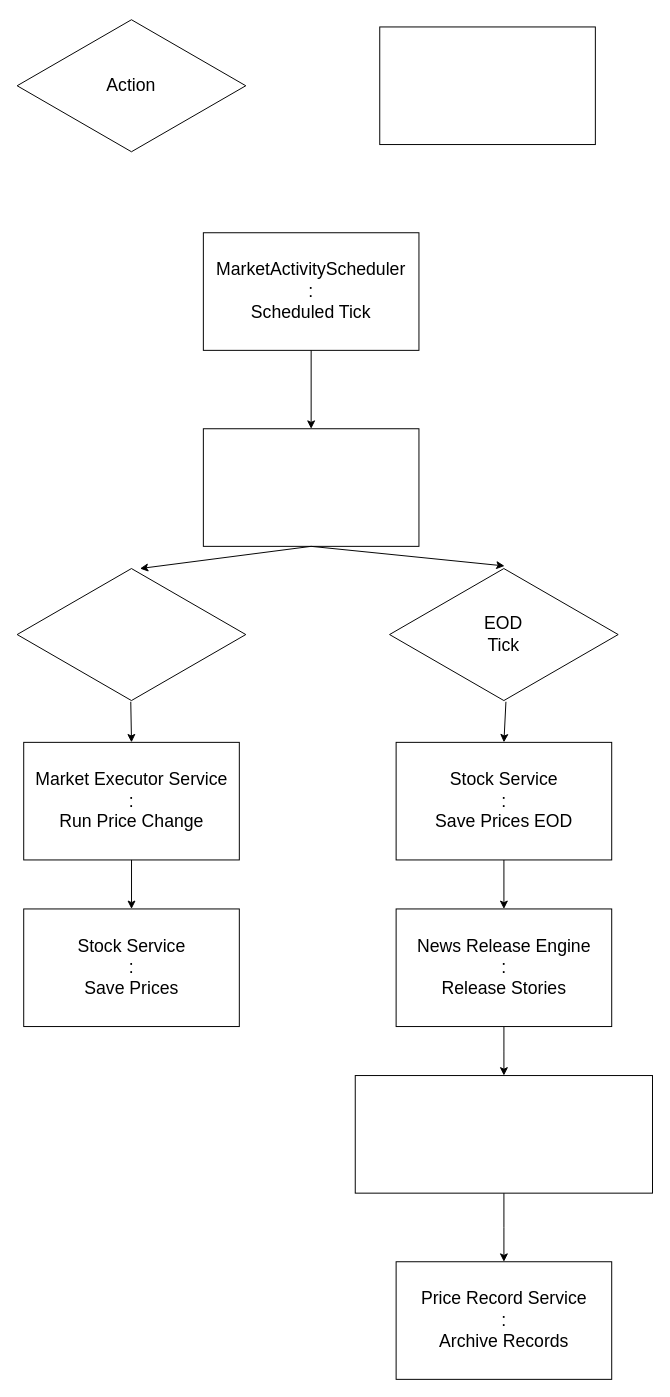
Image size: 670x1397. Some labels were removed from this diagram. The shapes that lost their labels are listed below. From the top down, each one's box as (x1, y1, x2, y2) in pixels, then its label:
(379, 26, 595, 145): Class : Routine
(202, 428, 419, 546): MarketExecutorService : Handle Activity Tick
(16, 565, 246, 703): Intra-day Tick
(354, 1075, 652, 1193): Stock Service : Update Pricing Attributes After News
